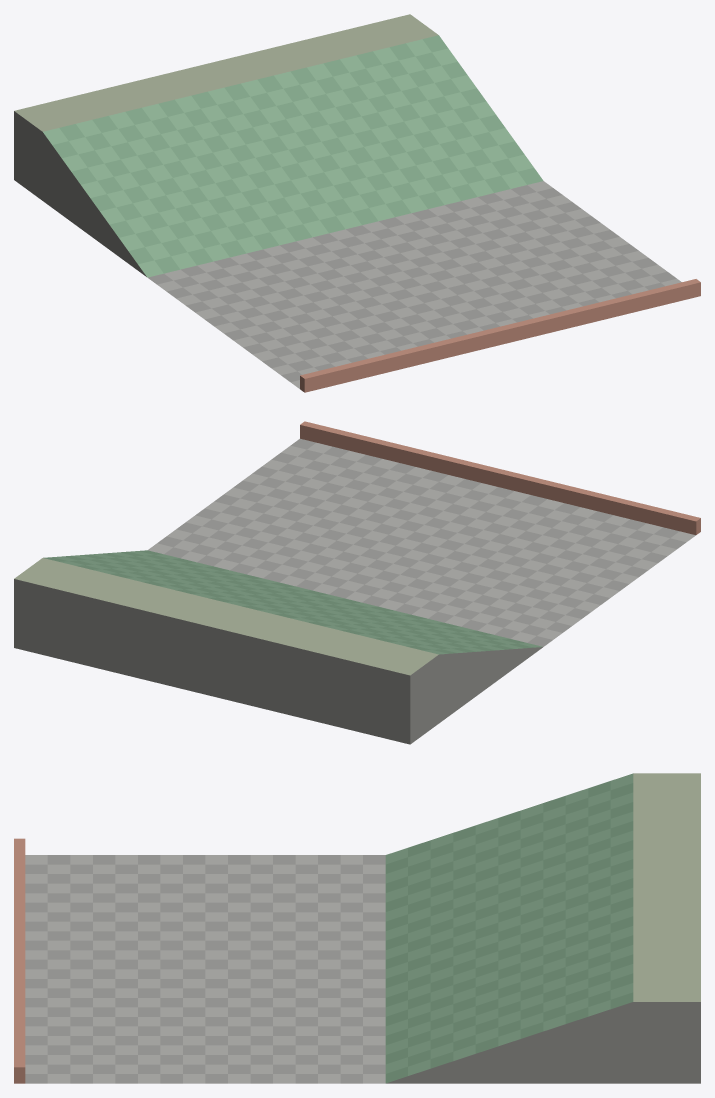
Rendered from MeshGround.gltf.
The picture shows the model from 3 angles, top to bottom: view 1: azimuth 30°, elevation 25°; view 2: azimuth 150°, elevation 25°; view 3: azimuth 270°, elevation 25°; orthographic projection. The views are drawn at different scales.
Visible parts, largest first — view 1: MeshGround; view 2: MeshGround; view 3: MeshGround.
Part boxes in pixels (x1,y1,x2,y2): MeshGround: (14,14,700,392); MeshGround: (14,421,700,744); MeshGround: (14,773,700,1083).
Bounding box in the file's own units: 24 × 4 × 30.5.
